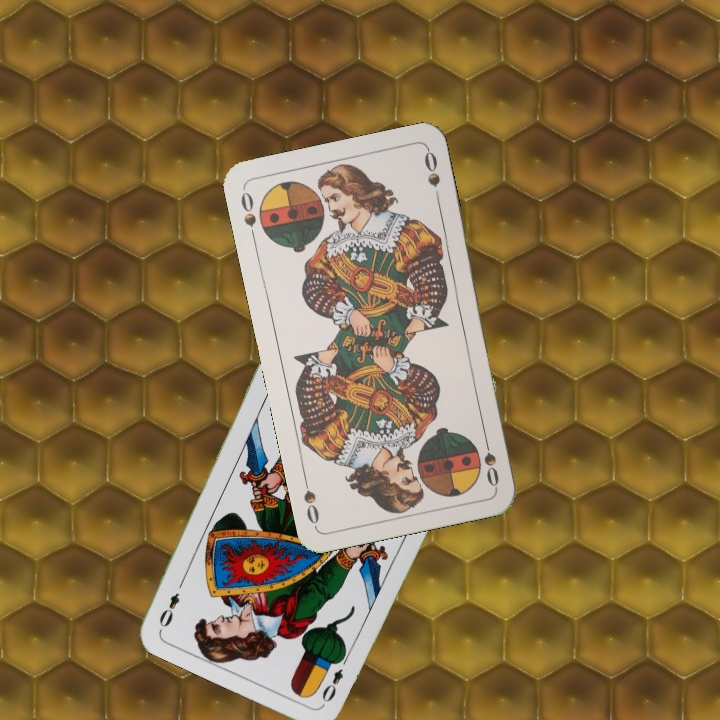EO: (317, 650, 352, 706)
SO: (479, 431, 502, 490), (237, 186, 259, 244)
